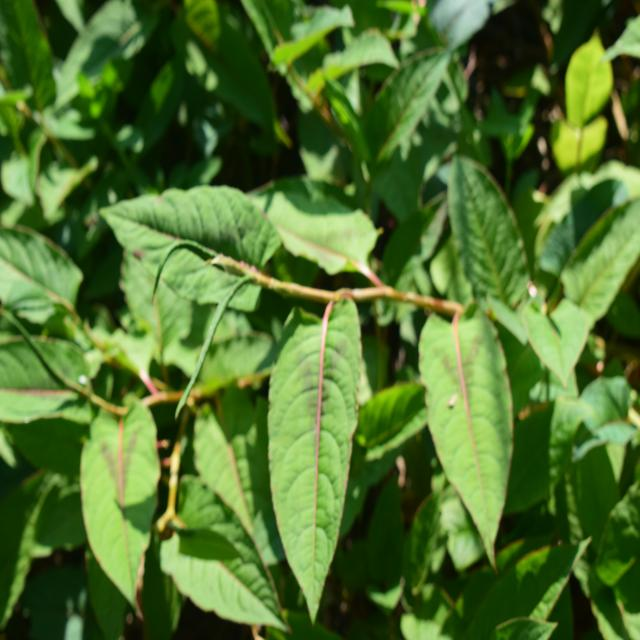Chinese_knotweed: (118, 162, 362, 574)
